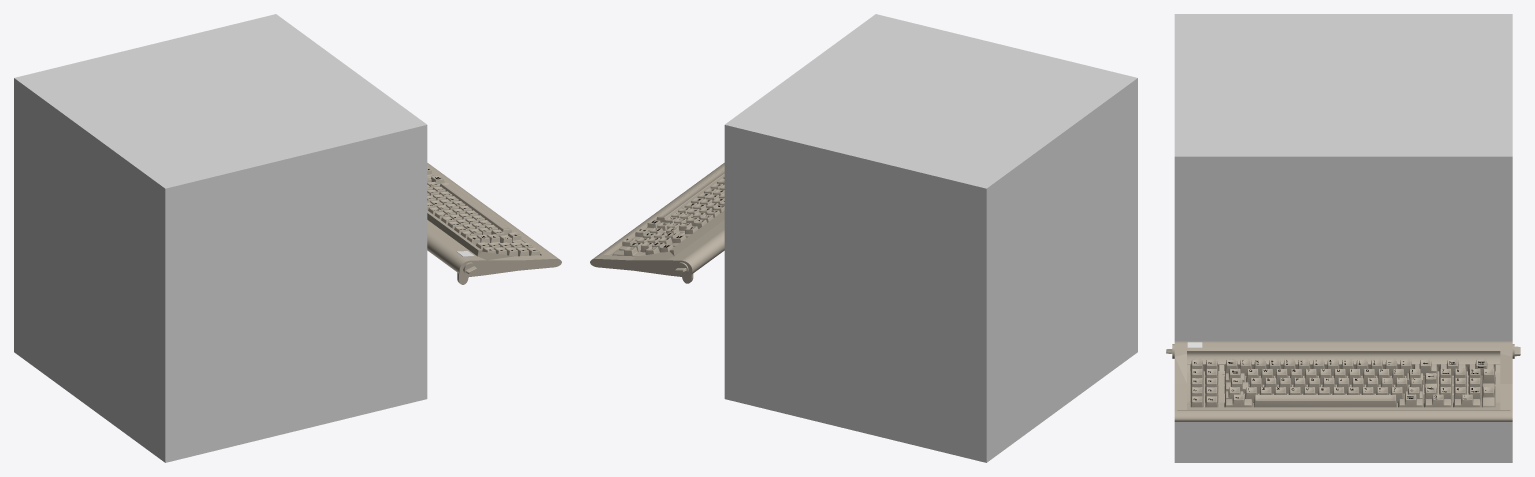
The model's file is keyboard.fbx.
3 views of the same model, side by side, from view 1: azimuth 30°, elevation 25°; view 2: azimuth 150°, elevation 25°; view 3: azimuth 270°, elevation 25° (orthographic). The views are drawn at different scales.
Visible parts, largest first — view 1: Cube, Cube.002, Cube.009; view 2: Cube, Cube.002, Cube.009; view 3: Cube, Cube.002, Cube.009.
Boxes of the visible parts, x1,y1,x2,y2 form: Cube: [14, 14, 427, 462]; Cube.002: [427, 163, 561, 277]; Cube.009: [427, 167, 539, 256]; Cube: [724, 14, 1137, 462]; Cube.002: [590, 163, 724, 277]; Cube.009: [613, 170, 724, 256]; Cube: [1174, 14, 1512, 462]; Cube.002: [1174, 341, 1512, 421]; Cube.009: [1190, 359, 1495, 407].
Size of the model in its own units: 3.03 by 2 by 2.1.
